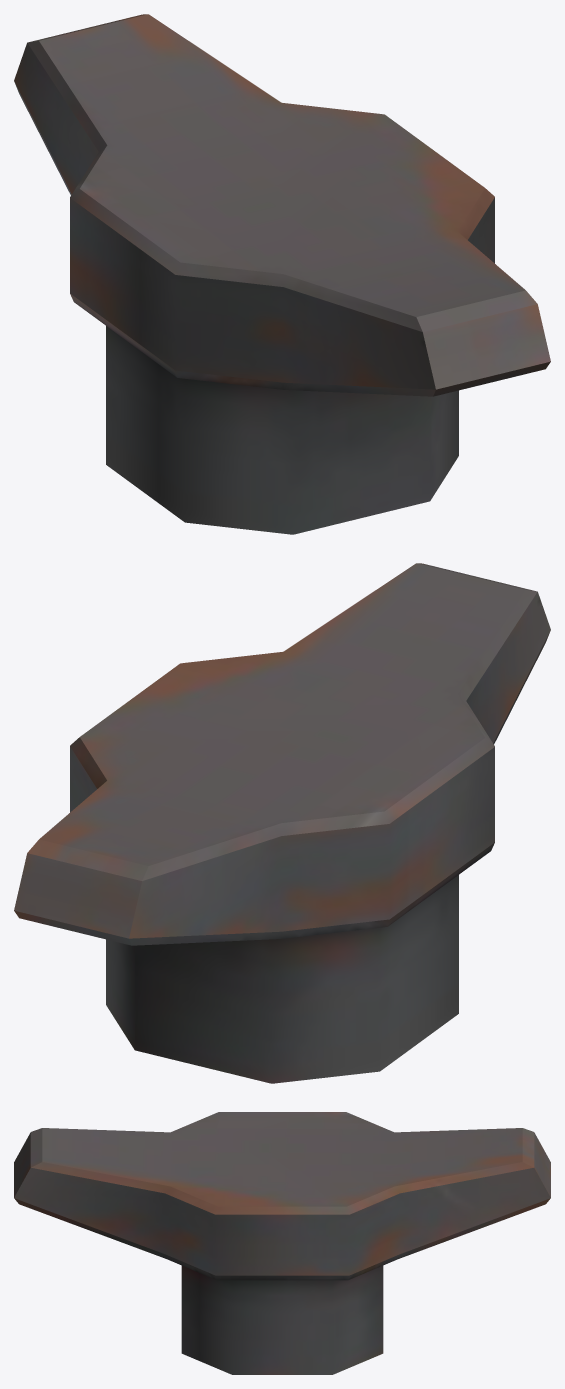
3 views of the same model, one above another, from view 1: azimuth 30°, elevation 25°; view 2: azimuth 150°, elevation 25°; view 3: azimuth 270°, elevation 25° (orthographic). The views are drawn at different scales.
Parts seen in each view (by area): view 1: body0_model0_lod0_mesh0; view 2: body0_model0_lod0_mesh0; view 3: body0_model0_lod0_mesh0.
Boxes of the visible parts, x1,y1,x2,y2 form: body0_model0_lod0_mesh0: (14,14,550,534); body0_model0_lod0_mesh0: (14,563,550,1083); body0_model0_lod0_mesh0: (14,1112,550,1374).
Size of the model in its own units: 56.01 by 49.29 by 128.
Materials: 1 (1 with a texture image).
